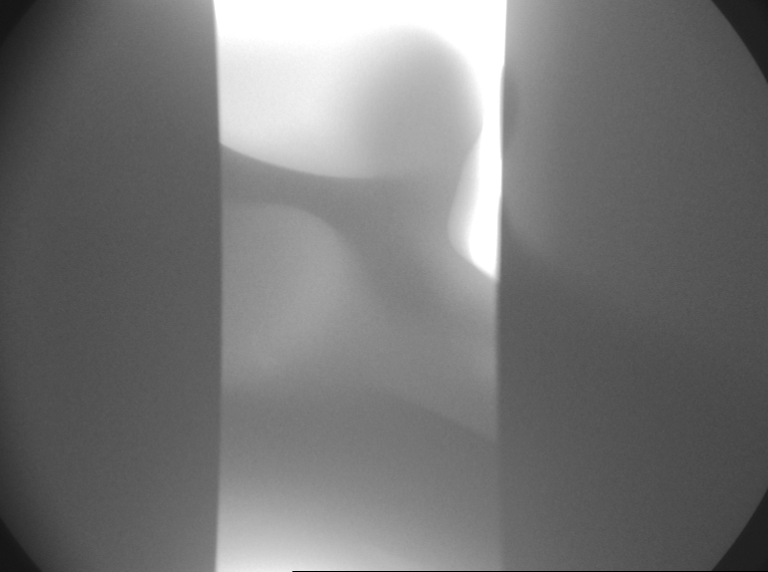defect: (245, 328, 282, 378)
